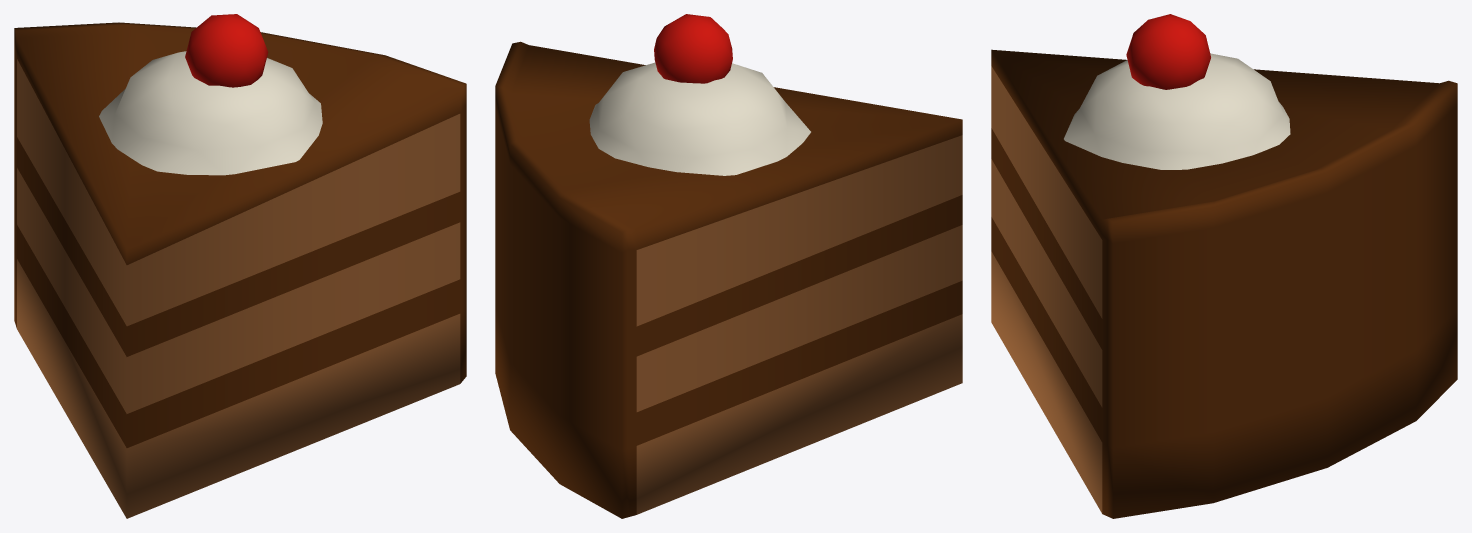
Rendered from cake.fbx.
3 renders of one model, left to right at view 1: azimuth 30°, elevation 25°; view 2: azimuth 150°, elevation 25°; view 3: azimuth 270°, elevation 25°, orthographic. The views are drawn at different scales.
Visible parts, largest first — view 1: Cake; view 2: Cake; view 3: Cake.
Boxes of the visible parts, bbox=[...] form: Cake: bbox=[14, 14, 466, 518]; Cake: bbox=[495, 14, 962, 518]; Cake: bbox=[991, 14, 1457, 518].
Size of the model in its own units: 40.38 by 40.27 by 37.85.
